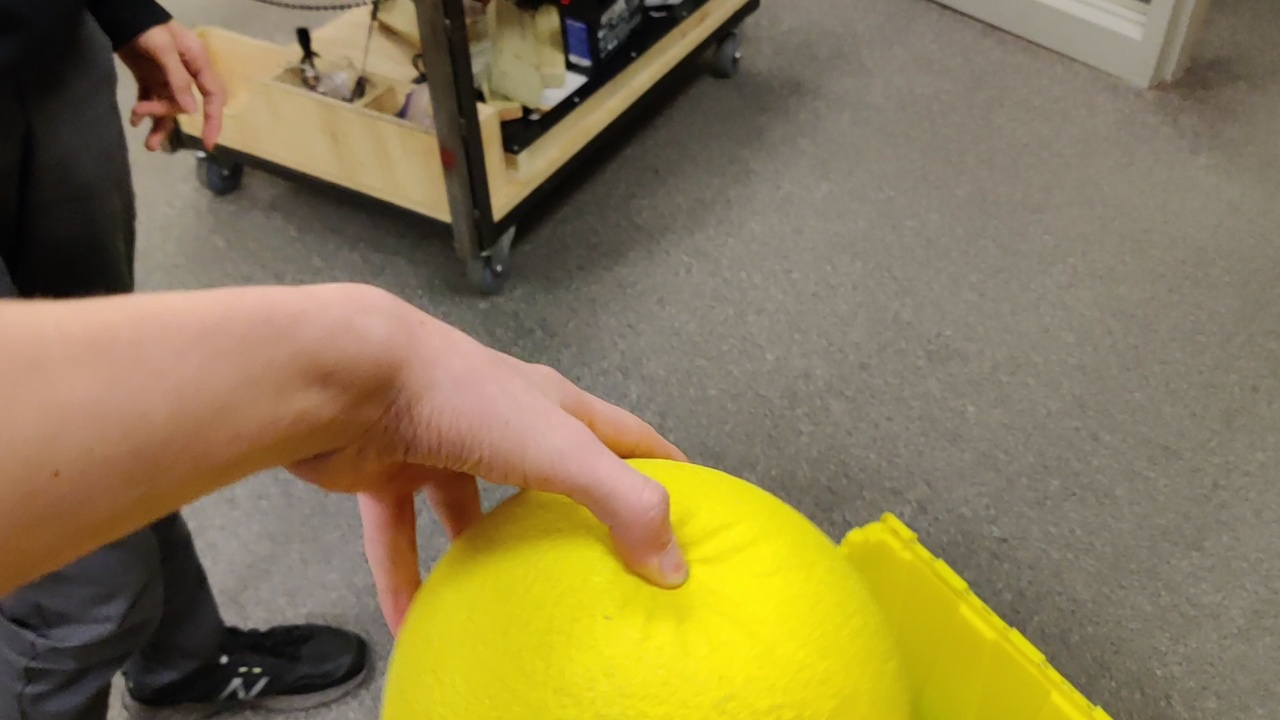Ball: (380, 450, 917, 720)
